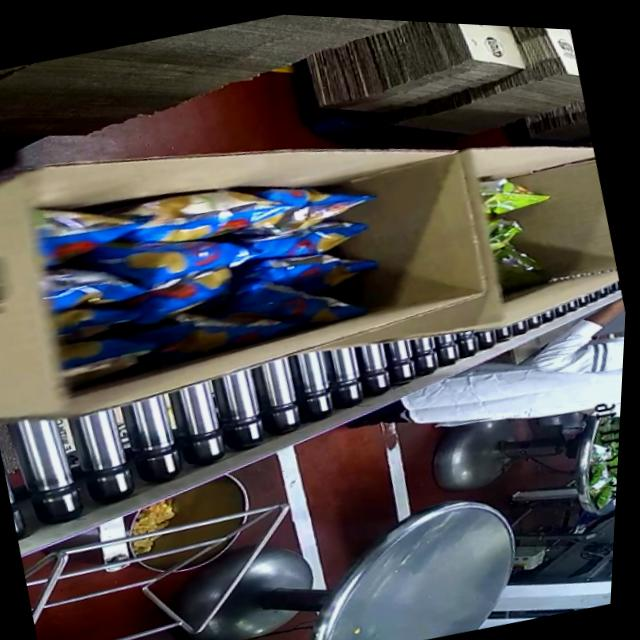PAPRIKA: (22, 134, 392, 402)
